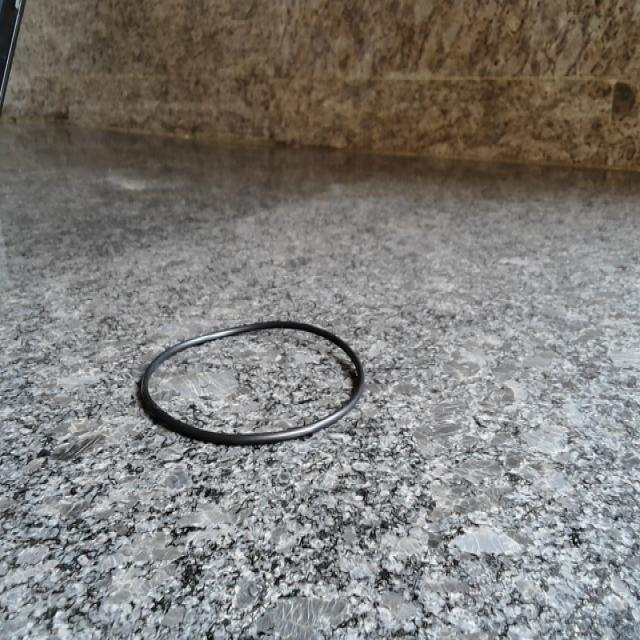black-ring: (138, 322, 364, 445)
